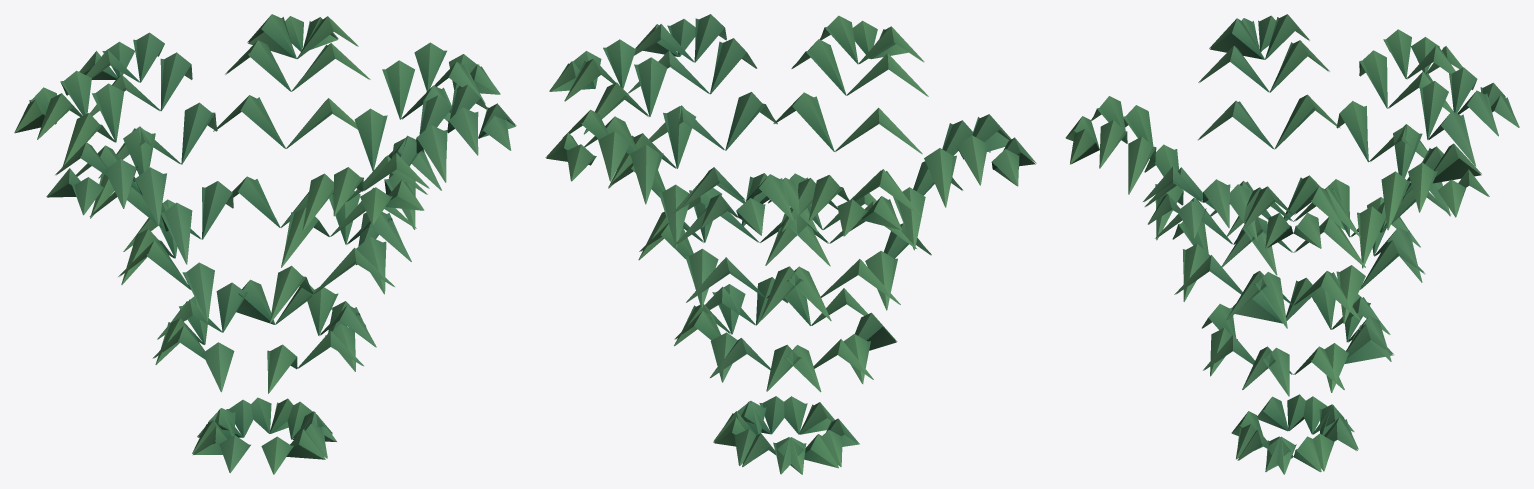
The model's file is Fern.glb.
The picture shows the model from 3 angles, left to right: view 1: azimuth 30°, elevation 25°; view 2: azimuth 150°, elevation 25°; view 3: azimuth 270°, elevation 25°; orthographic projection. The views are drawn at different scales.
Parts seen in each view (by area): view 1: Fern_L0, Fern_L2, Fern_L1; view 2: Fern_L0, Fern_L2, Fern_L1; view 3: Fern_L0, Fern_L2, Fern_L1.
Boxes of the visible parts, x1,y1,x2,y2 form: Fern_L0: [14, 14, 516, 474]; Fern_L2: [15, 17, 515, 459]; Fern_L1: [15, 29, 515, 460]; Fern_L0: [545, 14, 1036, 474]; Fern_L2: [546, 18, 1035, 473]; Fern_L1: [546, 25, 1033, 467]; Fern_L0: [1065, 14, 1519, 474]; Fern_L2: [1066, 17, 1493, 471]; Fern_L1: [1071, 21, 1518, 471].
Size of the model in its own units: 1 by 0.7511 by 0.9.
